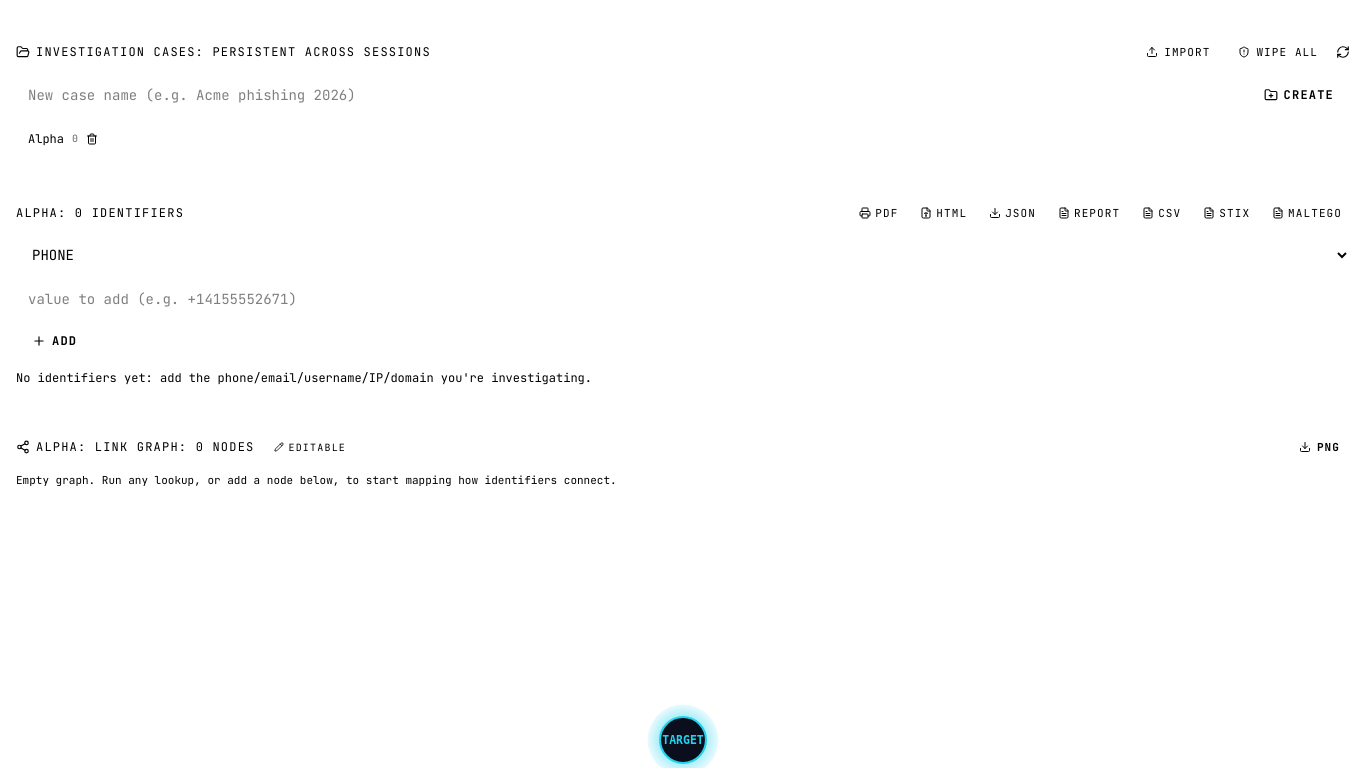
Test: <CasesPanel> create / delete › keeps a case visible when the delete request never reaches the server
Step 1. Click the button named "Delete Alpha" → click(92, 138), box [86, 132, 98, 144]
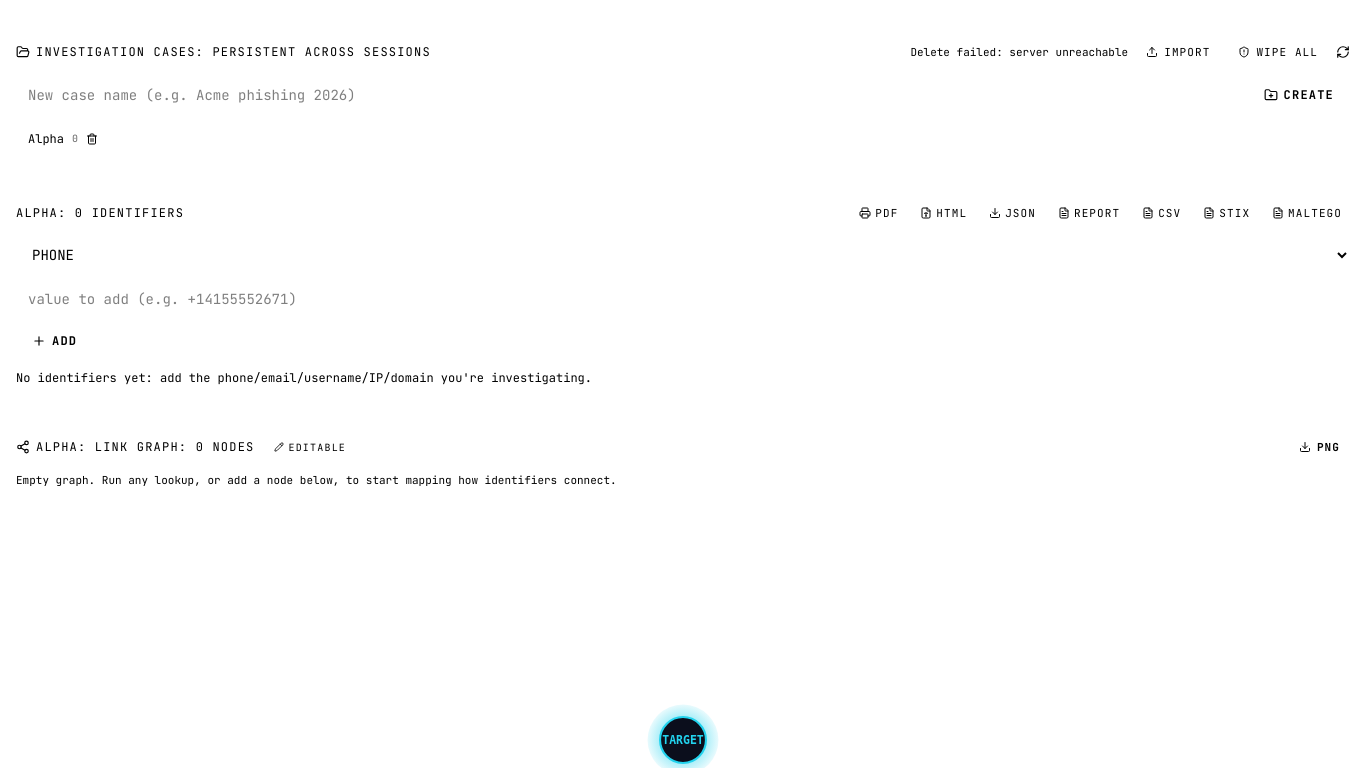
Check: the button "Alpha 0" is shown, box [16, 124, 110, 152]
Check: the text "Delete failed: server unreachable" is shown, box [910, 44, 1128, 60]
